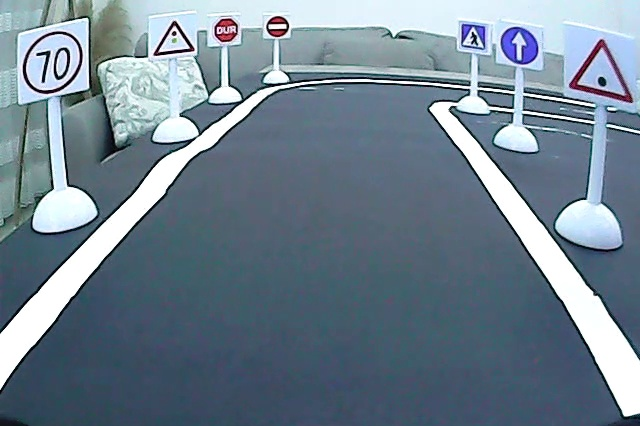do not enter: (264, 14, 291, 37)
green light: (566, 33, 636, 107)
pedestrian crossing: (458, 20, 488, 53)
red light: (151, 16, 197, 59)
speed limit 70: (18, 28, 84, 95)
stop sign: (213, 14, 239, 43)
